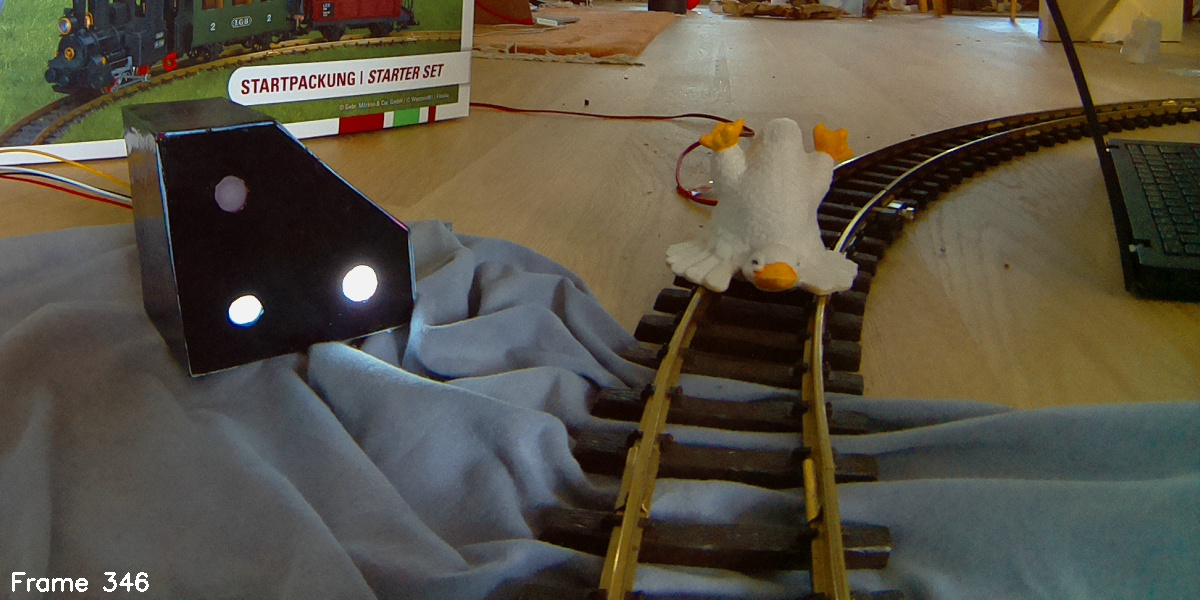Ente: (667, 114, 863, 305)
Halt: (123, 105, 420, 372)
